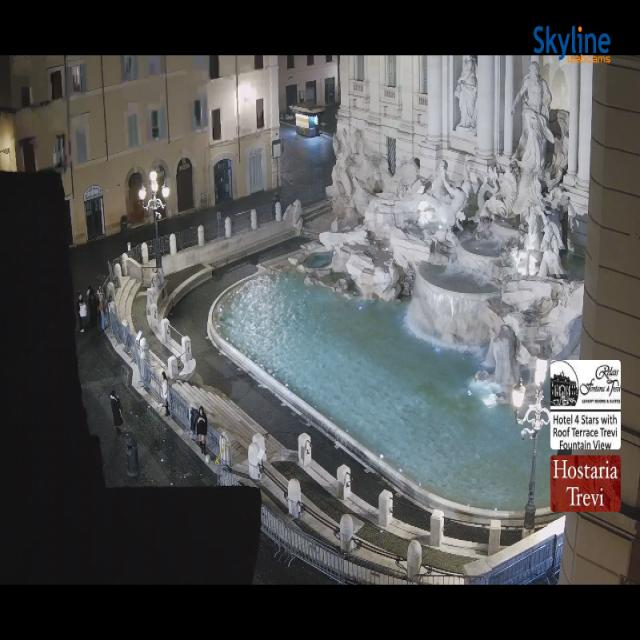person: (110, 391, 123, 434), (196, 406, 207, 455), (88, 286, 98, 327), (162, 372, 170, 416), (79, 296, 87, 332), (75, 291, 82, 330), (98, 289, 104, 330)
